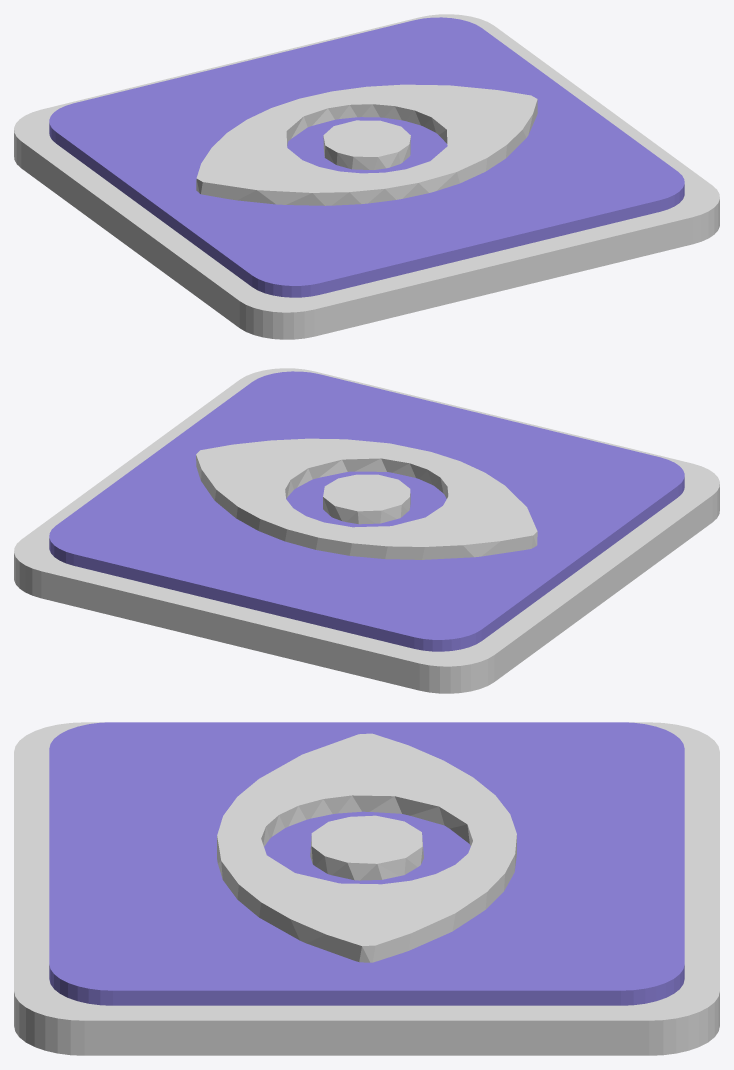
Rendered from PadType07.fbx.
3 renders of one model, top to bottom at view 1: azimuth 30°, elevation 25°; view 2: azimuth 150°, elevation 25°; view 3: azimuth 270°, elevation 25°, orthographic. The views are drawn at different scales.
Parts seen in each view (by area): view 1: Cube.002, Cube.001, Curve; view 2: Cube.002, Cube.001, Curve; view 3: Cube.002, Cube.001, Curve.
Boxes of the visible parts, x1,y1,x2,y2 form: Cube.002: (49,17,684,297); Cube.001: (14,14,719,339); Curve: (196,84,537,205); Cube.002: (49,371,684,651); Cube.001: (14,368,719,693); Curve: (196,438,537,559); Cube.002: (49,722,684,1005); Cube.001: (14,722,719,1055); Curve: (217,733,516,962).
Bounding box in the file's own units: 200 × 20.9 × 200.
